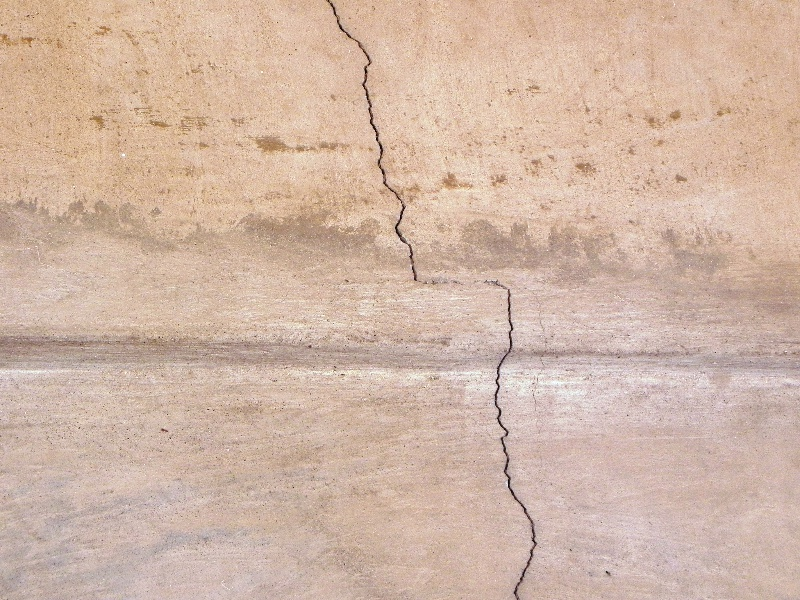Crack: (323, 2, 425, 281), (477, 277, 545, 597)
